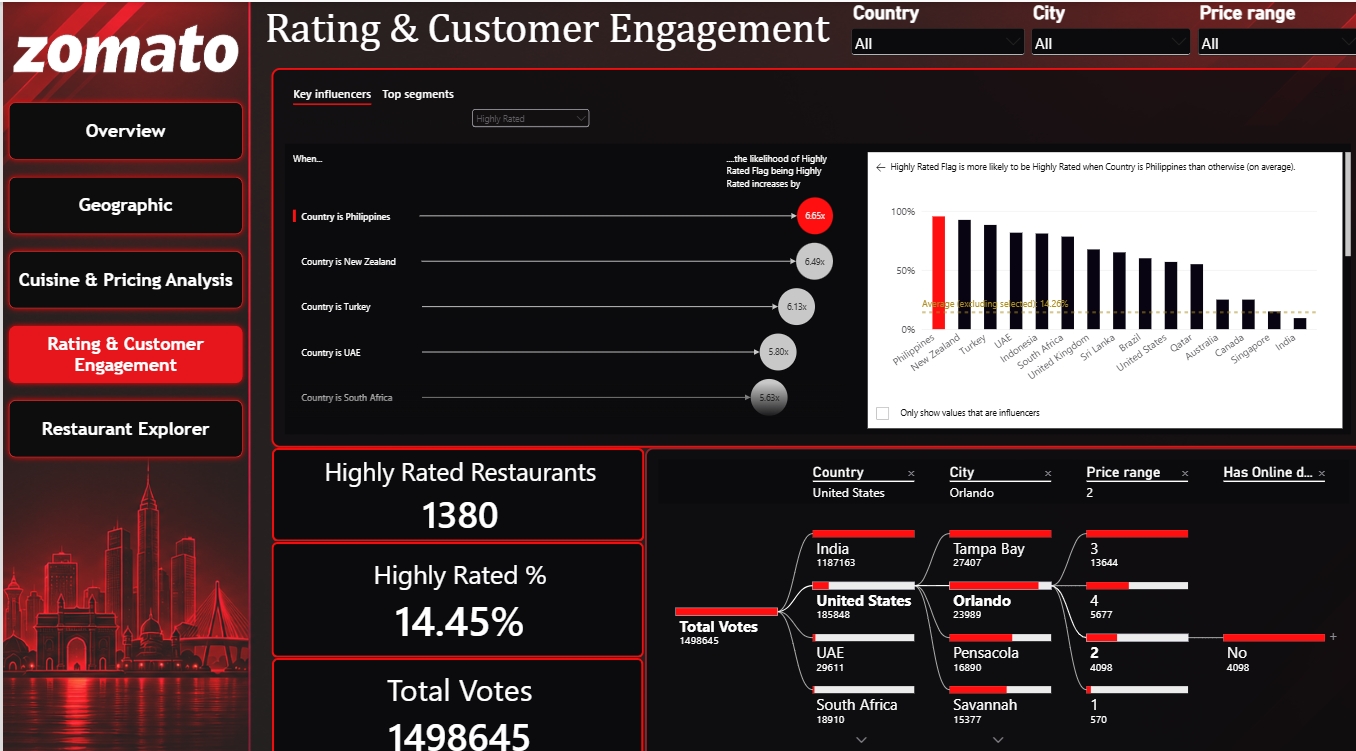

Layout of this report page (visuals, bound fields, positions):
{"tool":"powerbi","page":{"name":"Rating & Customer Engagement","canvas":[1920,1080],"ordinal":3},"visuals":[{"type":"keyDriversVisual","fields":{"ExplainBy":["Zomato_Cleaned_v2.Price range","Zomato_Cleaned_v2.Has Online delivery","Zomato_Cleaned_v2.Has Table booking","Country.Country"],"Target":["Zomato_Cleaned_v2.Highly Rated Flag"]},"box":[379.2,93.6,1540.8,535.2],"z":0},{"type":"decompositionTreeVisual","fields":{"Analyze":["Measures (2).Total Votes"],"ExplainBy":["Country.Country","Zomato_Cleaned_v2.City","Zomato_Cleaned_v2.Price range","Zomato_Cleaned_v2.Has Online delivery","Zomato_Cleaned_v2.Has Table booking","Zomato_Cleaned_v2.Cuisines"]},"box":[904.8,628.8,1012.8,451.2],"z":1000},{"type":"cardVisual","fields":{"Data":["Measures (2).Highly Rated Restaurants"]},"box":[379.2,628.8,525.6,132],"z":2000},{"type":"cardVisual","fields":{"Data":["Measures (2).Highly Rated %"]},"box":[379.2,760.8,525.6,163.2],"z":3000},{"type":"cardVisual","fields":{"Data":["Measures (2).Total Votes"]},"box":[379.2,924,525.6,156],"z":4000},{"type":"slicer","fields":{"Values":["Country.Country"]},"box":[1190.4,0,255.1,102],"z":5000},{"type":"slicer","fields":{"Values":["Zomato_Cleaned_v2.City"]},"box":[1444.8,0,235.2,103.2],"z":6000},{"type":"slicer","fields":{"Values":["Zomato_Cleaned_v2.Price range"]},"box":[1680,0,240,103.2],"z":7000},{"type":"textbox","box":[345.6,0,844.8,93.6],"z":8000},{"type":"image","box":[0,0,347,131.3],"z":9000},{"type":"pageNavigator","box":[0,133.6,347,520.5],"z":10000}]}

Visuals, with their boxes on the page's 1920x1080 design canvas (x1, y1, x2, y2). These are canvas units, not pixel positions in the 1356x751 screenshot, which may show the page scaled, cropped or inside an application window:
keyDriversVisual - Zomato_Cleaned_v2.Price range x Zomato_Cleaned_v2.Has Online delivery: region(379, 94, 1920, 629)
decompositionTreeVisual - Measures (2).Total Votes x Country.Country: region(905, 629, 1918, 1080)
cardVisual - Measures (2).Highly Rated Restaurants: region(379, 629, 905, 761)
cardVisual - Measures (2).Highly Rated %: region(379, 761, 905, 924)
cardVisual - Measures (2).Total Votes: region(379, 924, 905, 1080)
slicer - Country.Country: region(1190, 0, 1446, 102)
slicer - Zomato_Cleaned_v2.City: region(1445, 0, 1680, 103)
slicer - Zomato_Cleaned_v2.Price range: region(1680, 0, 1920, 103)
textbox: region(346, 0, 1190, 94)
image: region(0, 0, 347, 131)
pageNavigator: region(0, 134, 347, 654)
